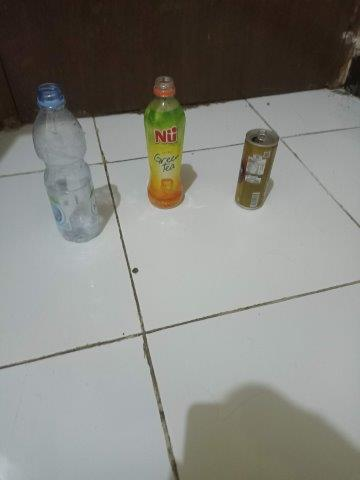botolplastik: (32, 83, 103, 243), (143, 75, 186, 209)
kaleng: (234, 128, 280, 210)
